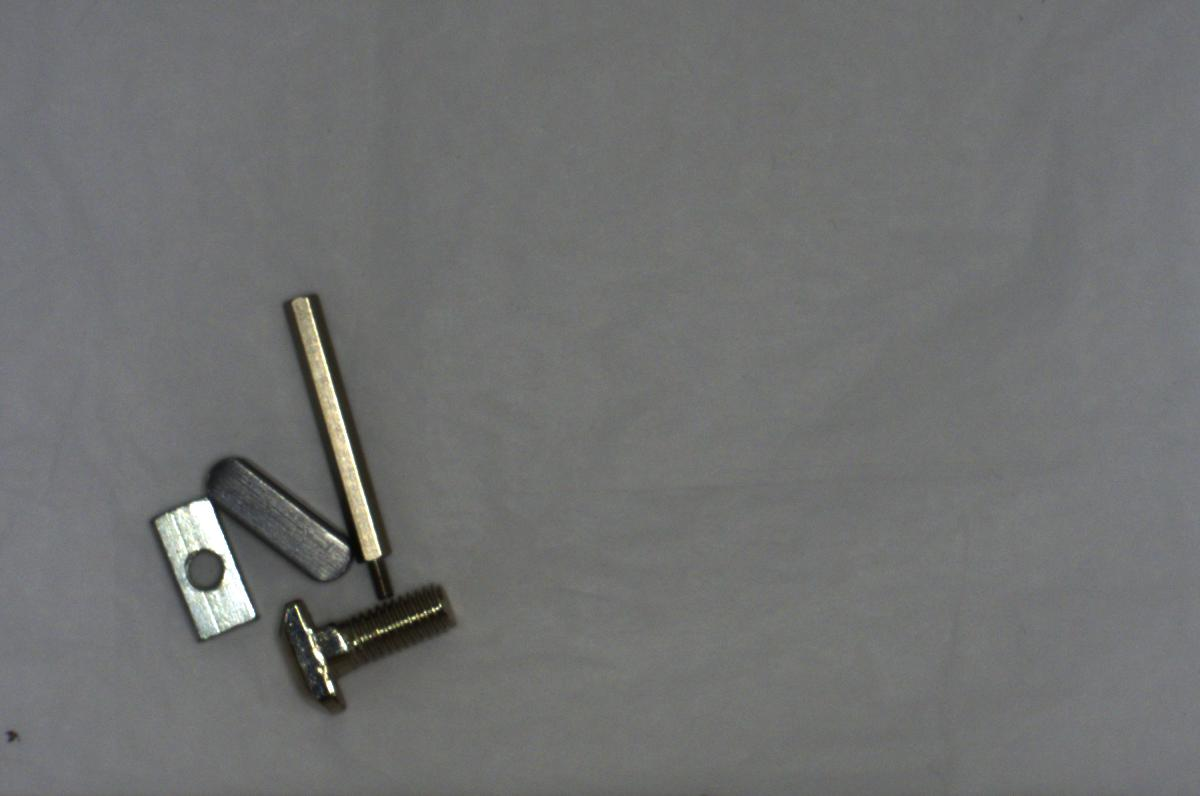Hexagonal steel column: (274, 288, 410, 605)
Keybar: (199, 450, 360, 589)
Rectangular nut: (147, 498, 262, 649)
T-shaped screw: (271, 581, 466, 720)
